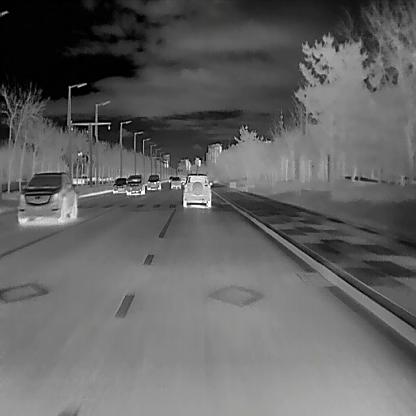car: (16, 170, 77, 224), (183, 173, 212, 207), (126, 174, 144, 194), (112, 176, 127, 192), (146, 174, 161, 189), (169, 176, 181, 188), (168, 176, 173, 182)
